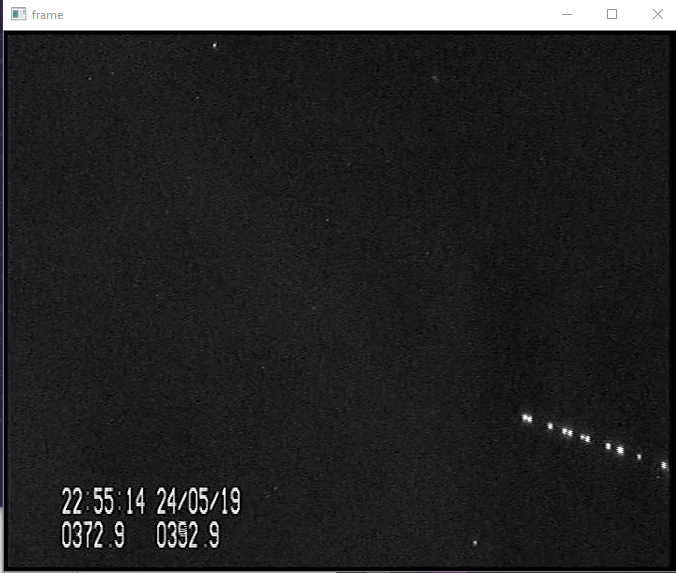satelite: (614, 444, 629, 455), (558, 425, 567, 438), (528, 412, 538, 423), (546, 420, 555, 432), (658, 459, 667, 470), (633, 452, 646, 459), (582, 435, 593, 443), (518, 413, 528, 421), (604, 441, 612, 451), (566, 428, 575, 436), (578, 433, 584, 442)
